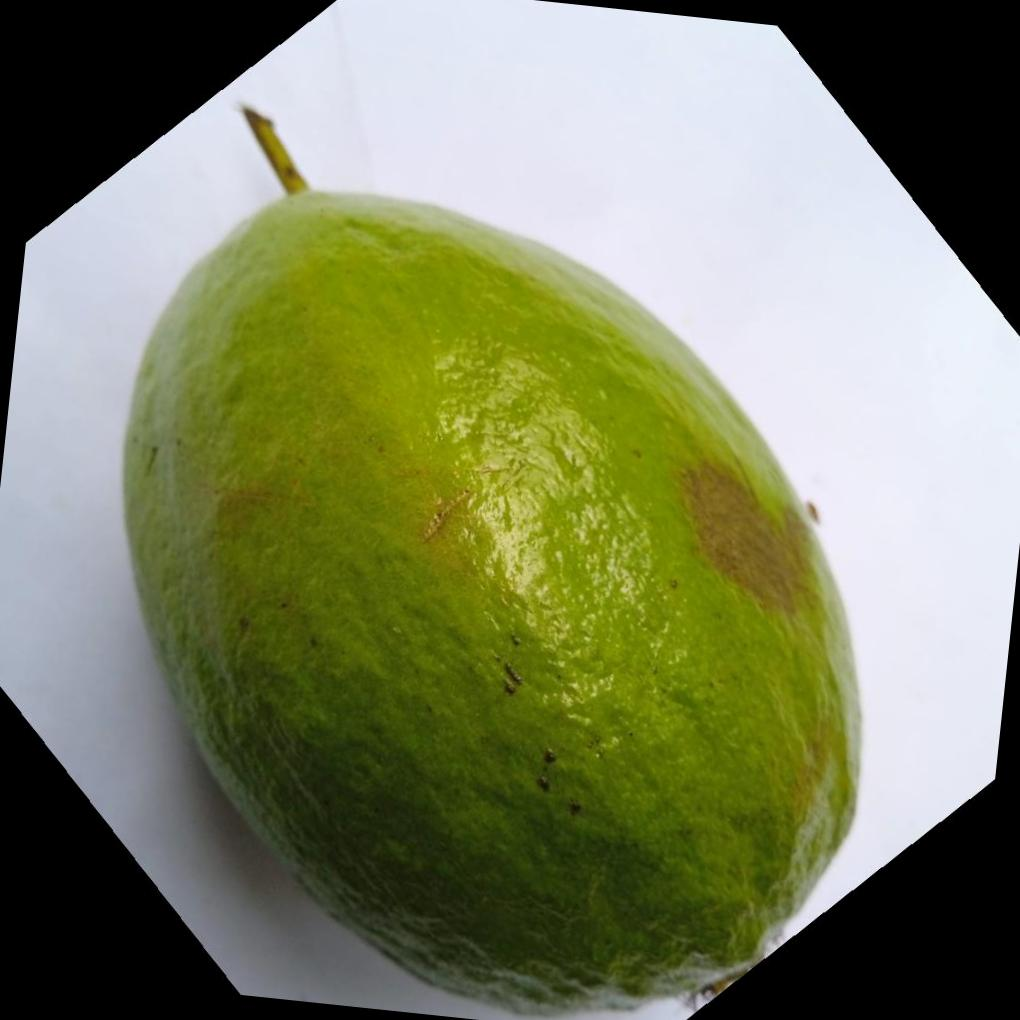FreshGuava: (119, 143, 865, 1017)
